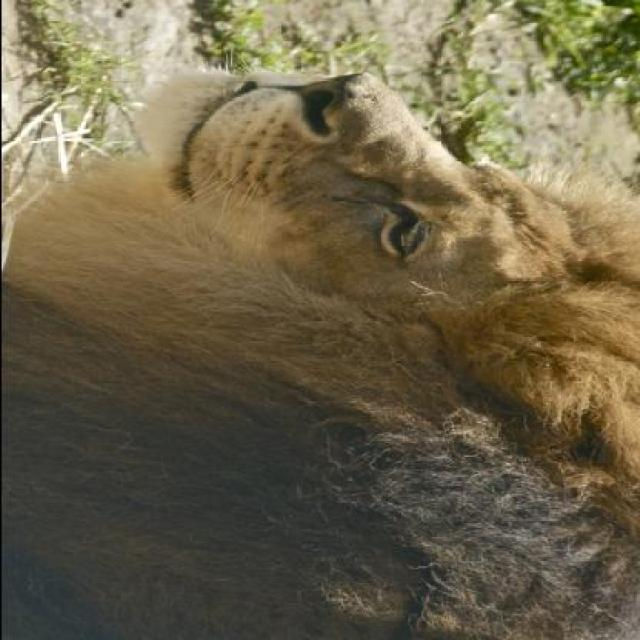Lion: (2, 61, 636, 638)
